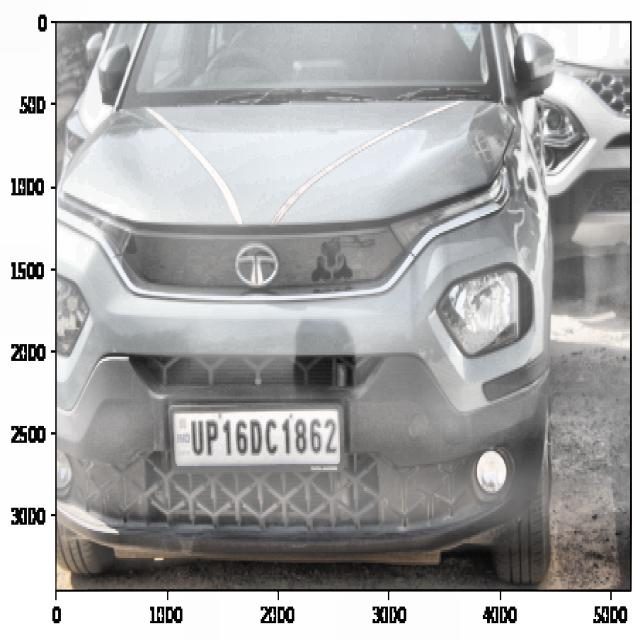license_plate: (186, 409, 341, 467)
